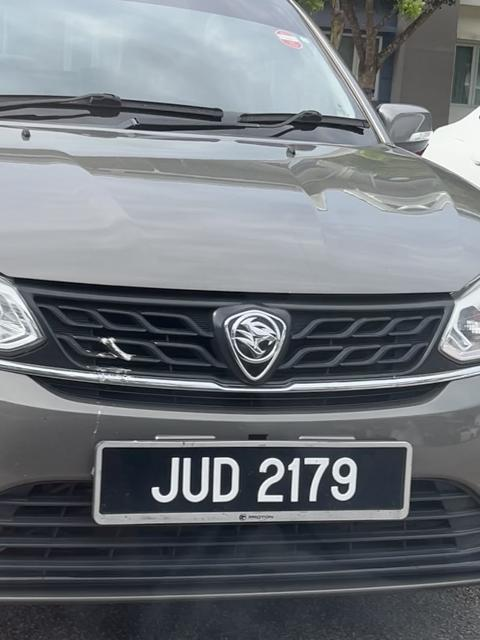JUD2179: (89, 433, 416, 528)
License_Plate: (89, 433, 416, 528)
car: (1, 1, 480, 640)
